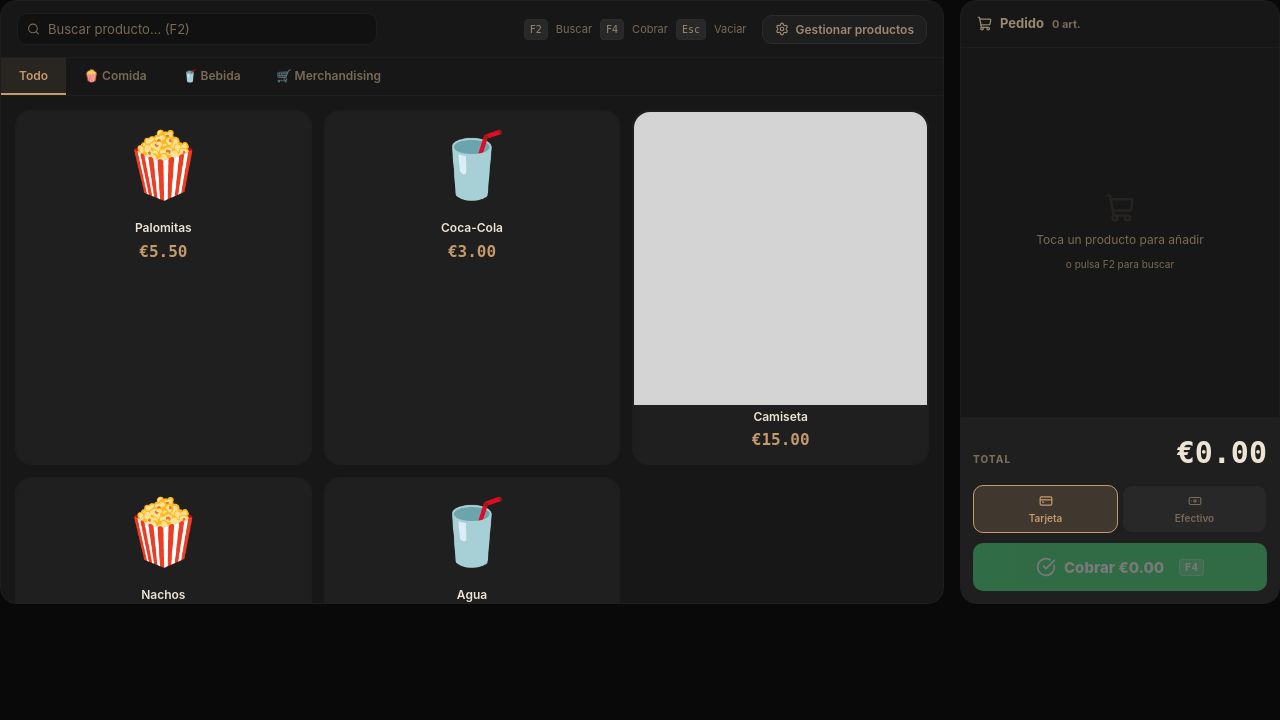
Scenario: ConcessionPage — branch coverage › manager: deletes a product (covers branch resetting current selection)
Expected: the text "Palomitas" is shown, [135,220,192,235]
Click the button "Gestionar productos".
click(845, 29)  # box [762,14,927,44]
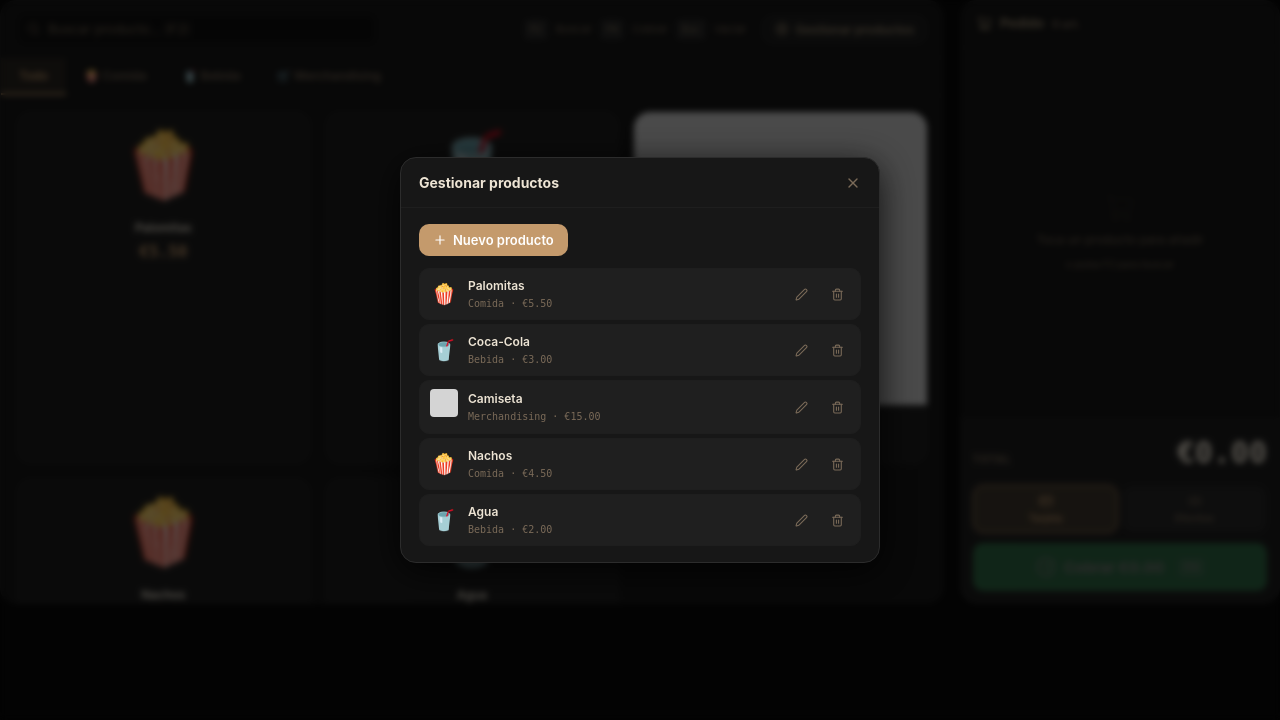
Expected: the element that starts with "Gestionar productos" is shown
Click the button named "Editar producto Palomitas".
click(801, 294)  # box [788,281,814,307]
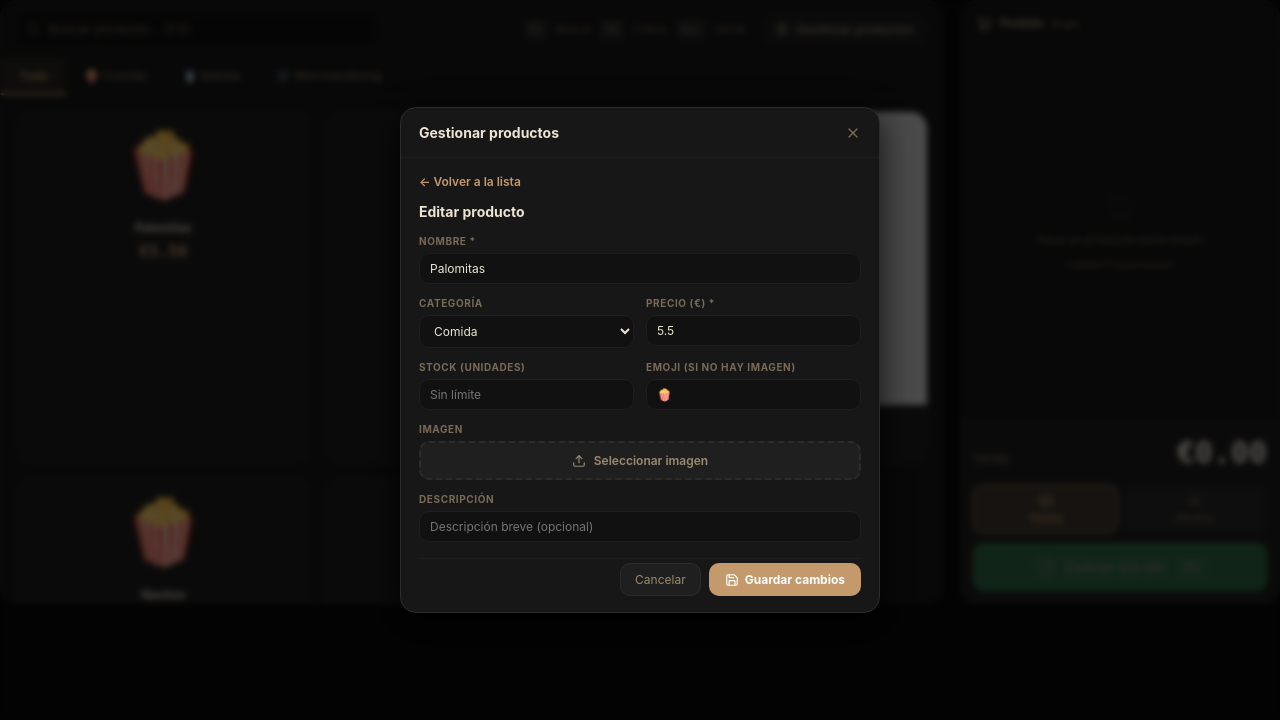
Expected: the field labelled "Nombre *" is shown, [419,253,861,284]
